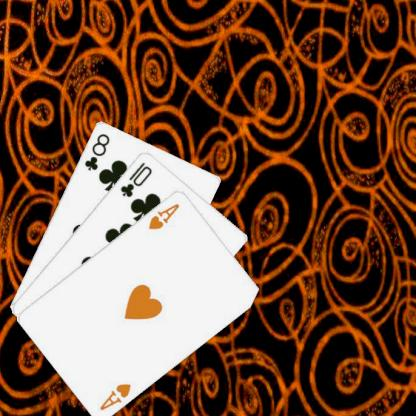10C: (117, 159, 153, 199)
8C: (81, 130, 111, 172)
AH: (96, 380, 132, 412), (146, 200, 180, 231)
